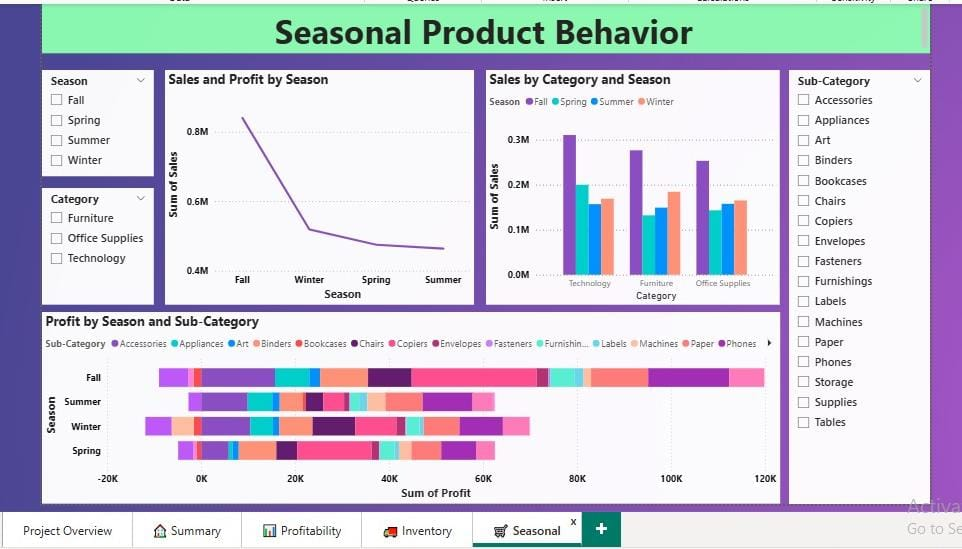

The page's visual inventory and layout, read from the dashboard file:
{"tool":"powerbi","page":{"name":"🛒 Seasonal","canvas":[1280,720],"ordinal":4},"visuals":[{"type":"textbox","box":[0,0,1280.2,70.6],"z":0},{"type":"lineChart","title":"Sales and  Profit by Season","fields":{"Category":["Orders.Season"],"Y":["Sum(Orders.Sales)"]},"box":[177.1,95,445,338.4],"z":1000},{"type":"clusteredColumnChart","title":" Sales by Category and Season","fields":{"Category":["Orders.Category"],"Y":["Sum(Orders.Sales)"],"Series":["Orders.Season"]},"box":[639.4,95,423.4,338.4],"z":2000},{"type":"barChart","title":"Profit by Season and Sub-Category","fields":{"Category":["Orders.Season"],"Y":["Sum(Orders.Profit)"],"Series":["Orders.Sub-Category"]},"box":[0,443.5,1062.7,276.5],"z":3000},{"type":"slicer","fields":{"Values":["Orders.Season"]},"box":[0,95,161.3,152.6],"z":4000},{"type":"slicer","fields":{"Values":["Orders.Category"]},"box":[0,265,161.3,168.5],"z":5000},{"type":"slicer","fields":{"Values":["Orders.Sub-Category"]},"box":[1075.7,95,204.5,625],"z":6000}]}

Visuals, with their boxes on the page's 1280x720 design canvas (x1, y1, x2, y2). These are canvas units, not pixel positions in the 962x549 screenshot, which may show the page scaled, cropped or inside an application window:
textbox: select_region(0, 0, 1280, 71)
"Sales and  Profit by Season" lineChart: select_region(177, 95, 622, 433)
" Sales by Category and Season" clusteredColumnChart: select_region(639, 95, 1063, 433)
"Profit by Season and Sub-Category" barChart: select_region(0, 444, 1063, 720)
slicer - Orders.Season: select_region(0, 95, 161, 248)
slicer - Orders.Category: select_region(0, 265, 161, 434)
slicer - Orders.Sub-Category: select_region(1076, 95, 1280, 720)
